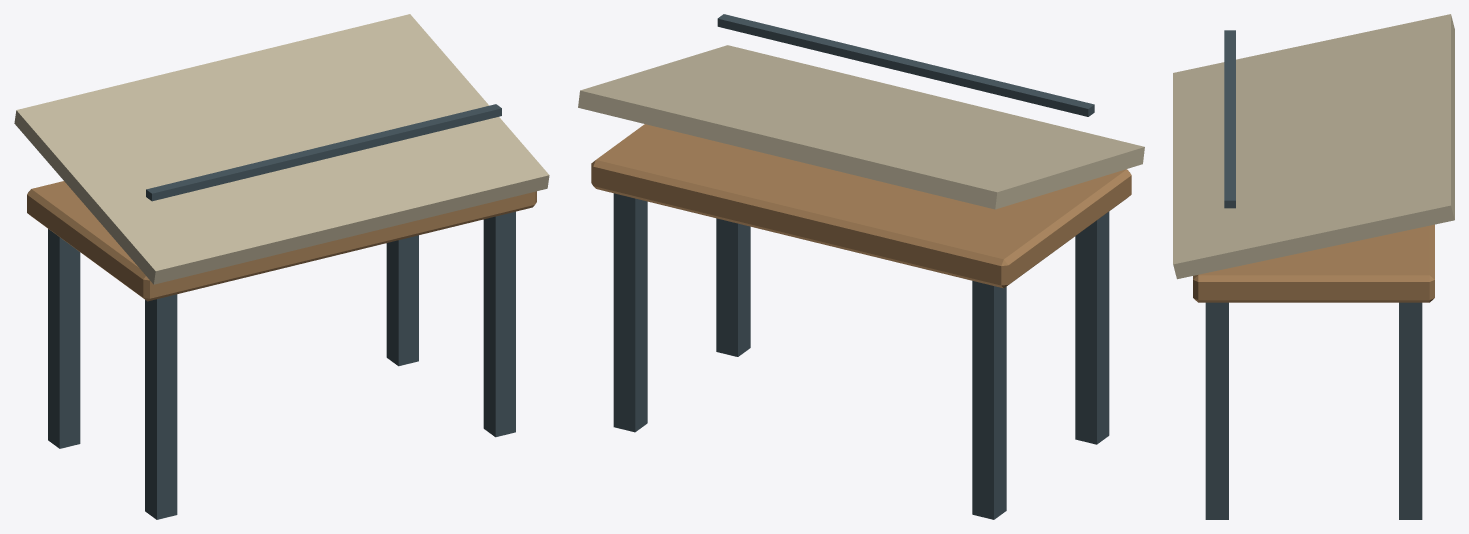
Rendered from drafting_table.glb.
The picture shows the model from 3 angles, left to right: view 1: azimuth 30°, elevation 25°; view 2: azimuth 150°, elevation 25°; view 3: azimuth 270°, elevation 25°; orthographic projection. The views are drawn at different scales.
Parts seen in each view (by area): view 1: drafting_table; view 2: drafting_table; view 3: drafting_table.
Boxes of the visible parts, bbox=[...] form: drafting_table: bbox=[14, 14, 549, 519]; drafting_table: bbox=[578, 14, 1144, 519]; drafting_table: bbox=[1173, 14, 1454, 519].
Bounding box in the file's own units: 1.35 × 1.06 × 0.839.
